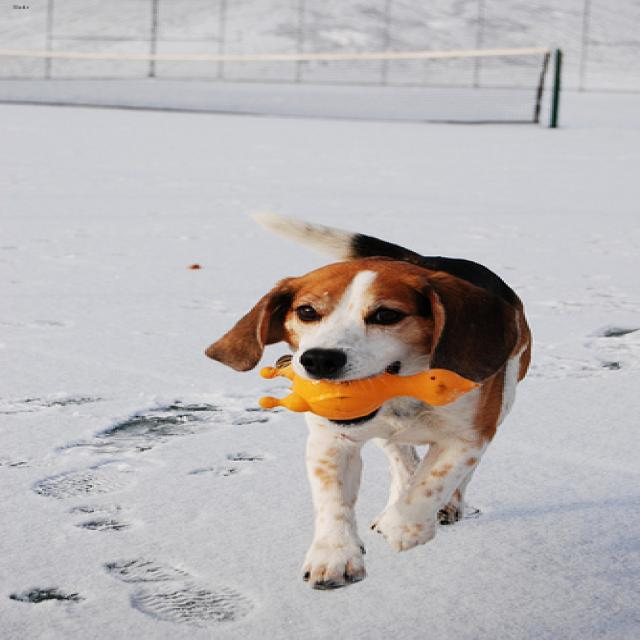dog-beagle: (194, 198, 548, 596)
